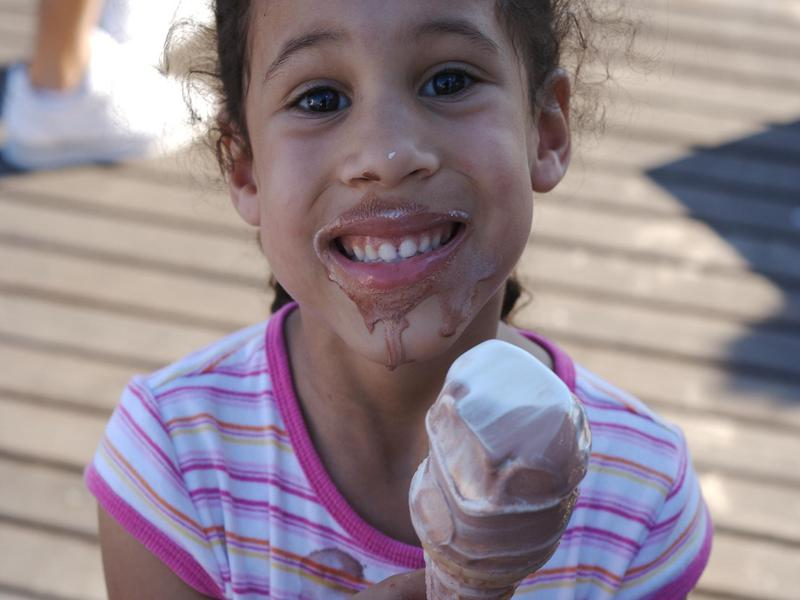person: (86, 1, 725, 596)
